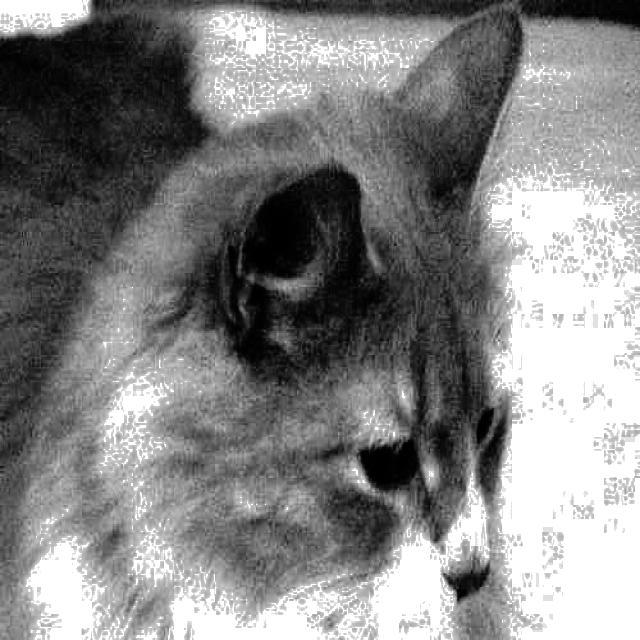Cat: (0, 12, 546, 640)
